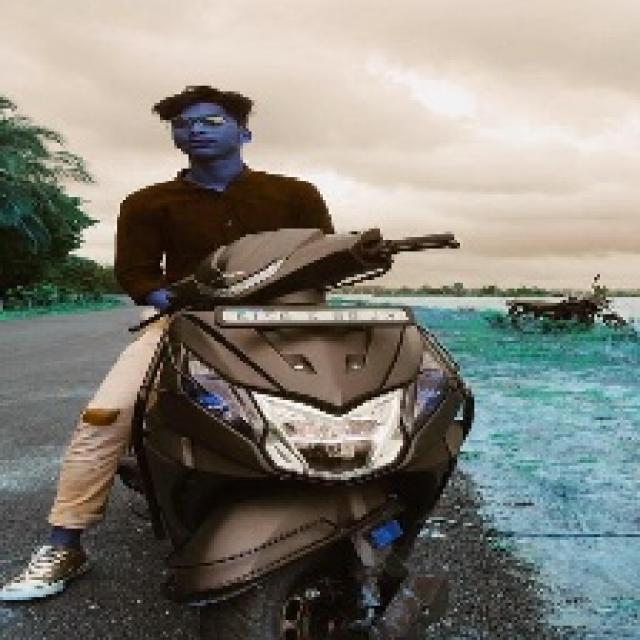Motorcycle: (142, 235, 494, 634)
